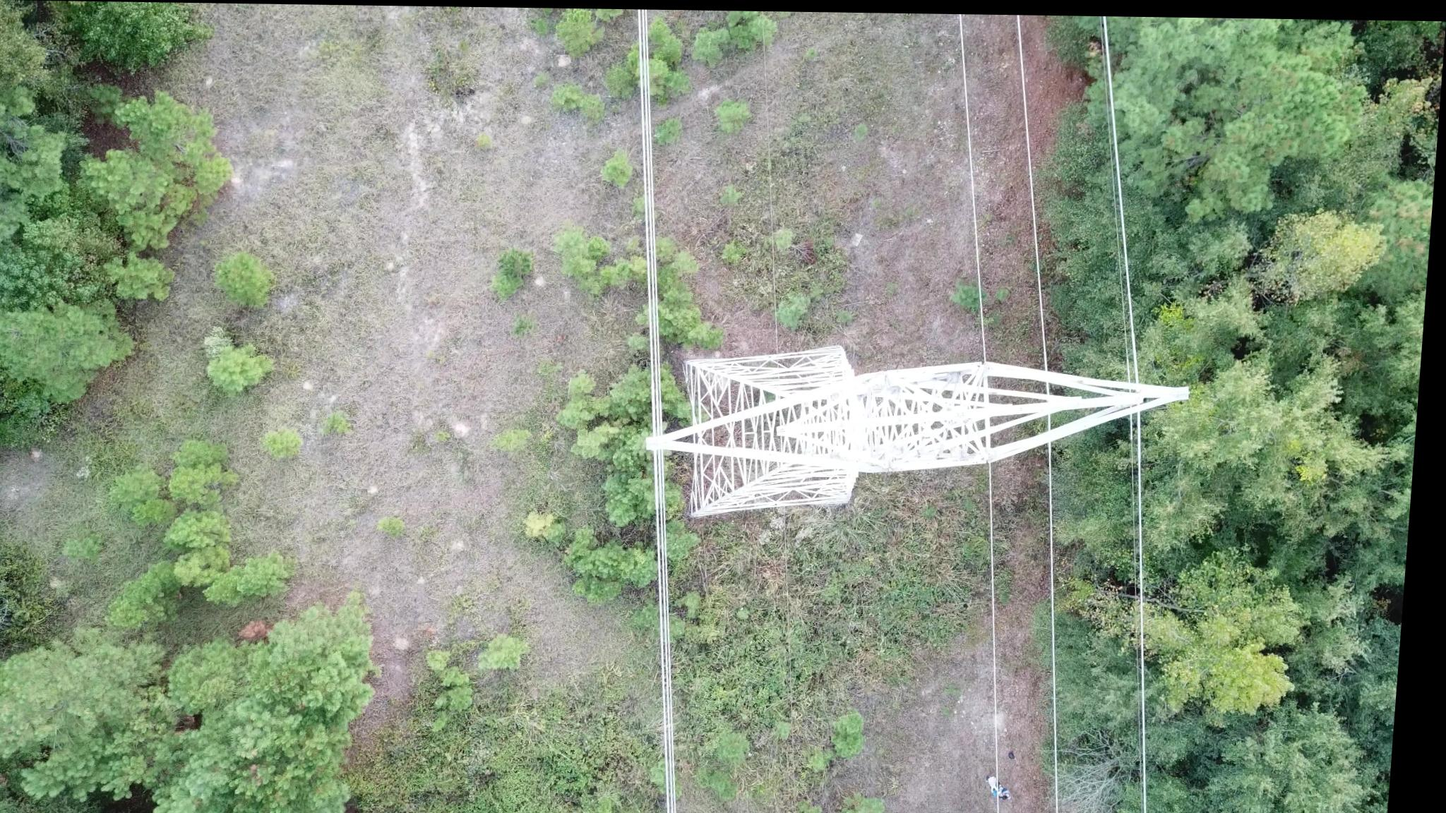tower: (639, 339, 1193, 527)
